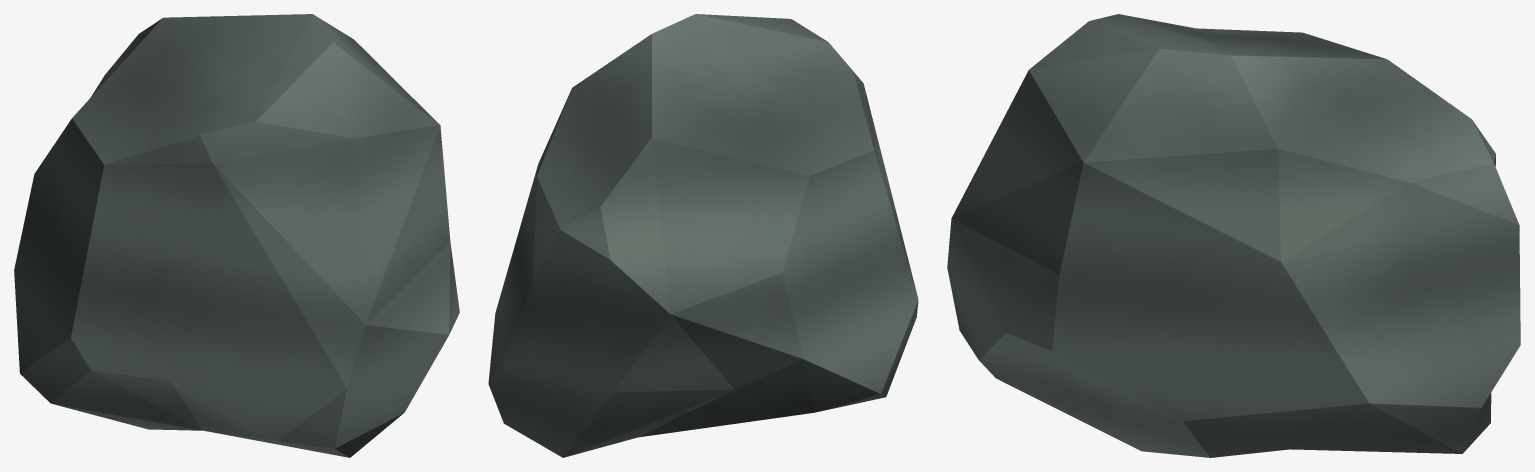
File: rock 3.fbx
The picture shows the model from 3 angles, left to right: view 1: azimuth 30°, elevation 25°; view 2: azimuth 150°, elevation 25°; view 3: azimuth 270°, elevation 25°; orthographic projection. The views are drawn at different scales.
Parts seen in each view (by area): view 1: Rock 3 EXP; view 2: Rock 3 EXP; view 3: Rock 3 EXP.
Boxes of the visible parts, x1,y1,x2,y2 form: Rock 3 EXP: (14, 14, 459, 457); Rock 3 EXP: (488, 14, 918, 457); Rock 3 EXP: (947, 14, 1520, 457).
Size of the model in its own units: 146 by 144 by 185.
Materials: 1 (1 with a texture image).
